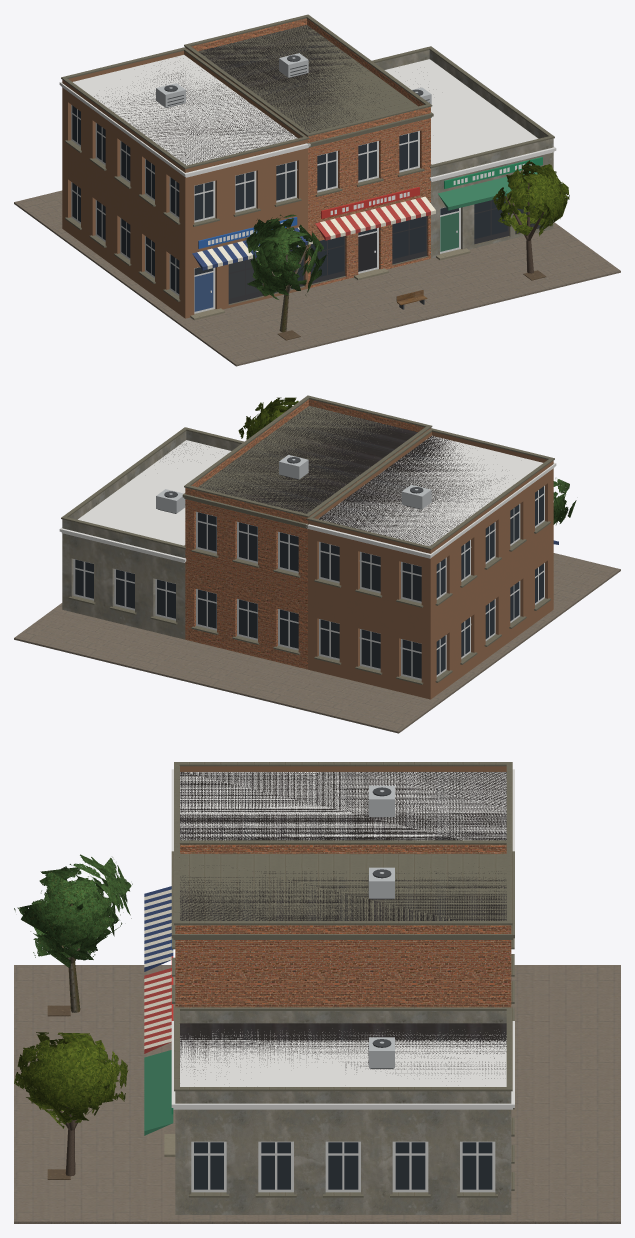
The model's file is shop_row.glb.
3 renders of one model, top to bottom at view 1: azimuth 30°, elevation 25°; view 2: azimuth 150°, elevation 25°; view 3: azimuth 270°, elevation 25°, orthographic. The views are drawn at different scales.
Visible parts, largest first — view 1: shop_row_body, shop_row_foliage; view 2: shop_row_body, shop_row_foliage; view 3: shop_row_body, shop_row_foliage.
Part boxes in pixels (x1,y1,x2,y2): shop_row_body: (14,14,620,366); shop_row_foliage: (245,160,569,299); shop_row_body: (14,395,620,733); shop_row_foliage: (238,397,576,524); shop_row_body: (14,762,620,1223); shop_row_foliage: (14,854,132,1128).
Size of the model in its own units: 0.94 by 0.3805 by 0.94.
34 materials, 14 textured.
